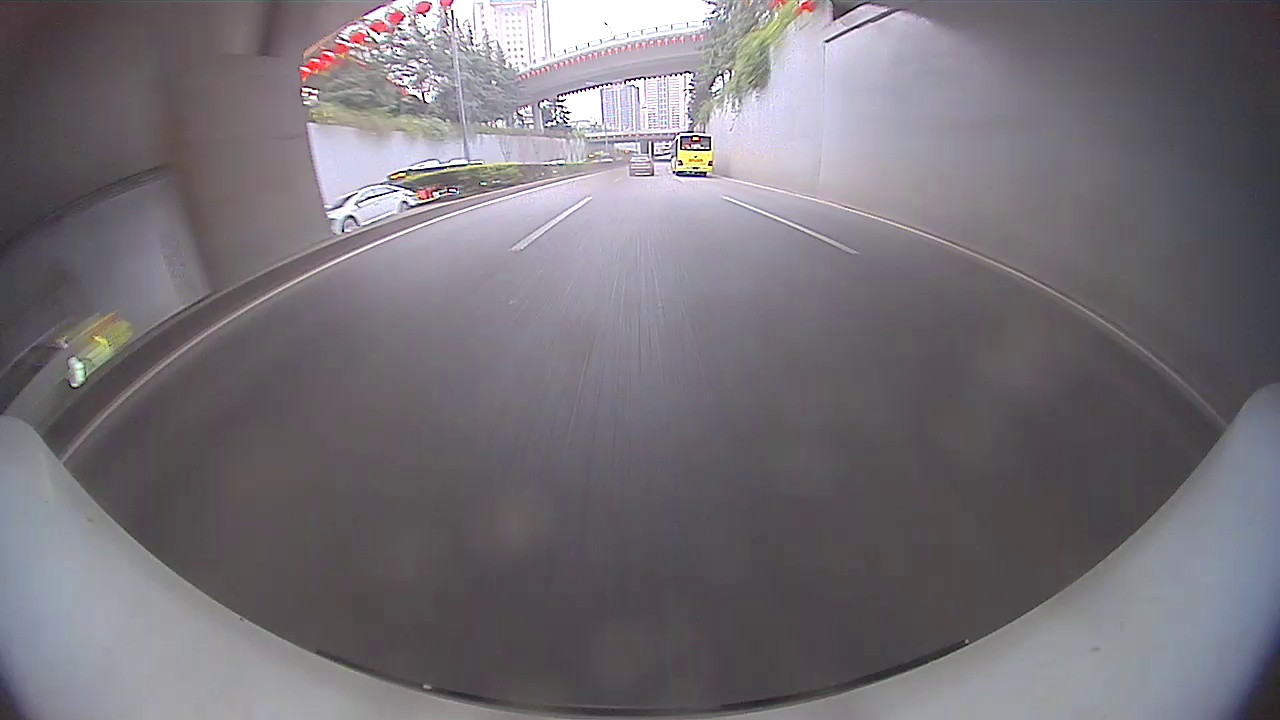bus: (667, 129, 717, 178)
car: (1, 307, 134, 442), (323, 182, 423, 240), (627, 152, 656, 179)
front: (345, 217, 360, 235)
rear: (397, 200, 412, 216)
